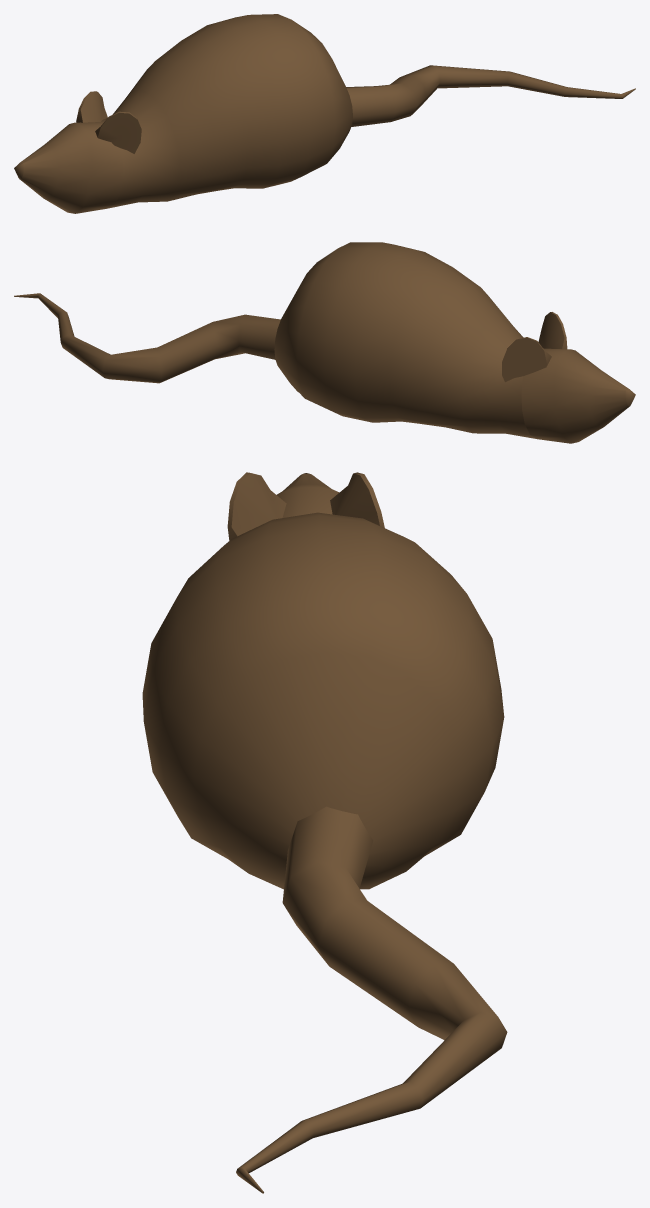
The model's file is LittleRatatuya.fbx.
3 views of the same model, one above another, from view 1: azimuth 30°, elevation 25°; view 2: azimuth 150°, elevation 25°; view 3: azimuth 270°, elevation 25° (orthographic). The views are drawn at different scales.
Visible parts, largest first — view 1: Little Rat; view 2: Little Rat; view 3: Little Rat.
Boxes of the visible parts, x1=… form: Little Rat: x1=14, y1=14, x2=635, y2=213; Little Rat: x1=14, y1=242, x2=635, y2=443; Little Rat: x1=142, y1=472, x2=507, y2=1193.
Bounding box in the file's own units: 3.36 × 0.8001 × 0.8696.
